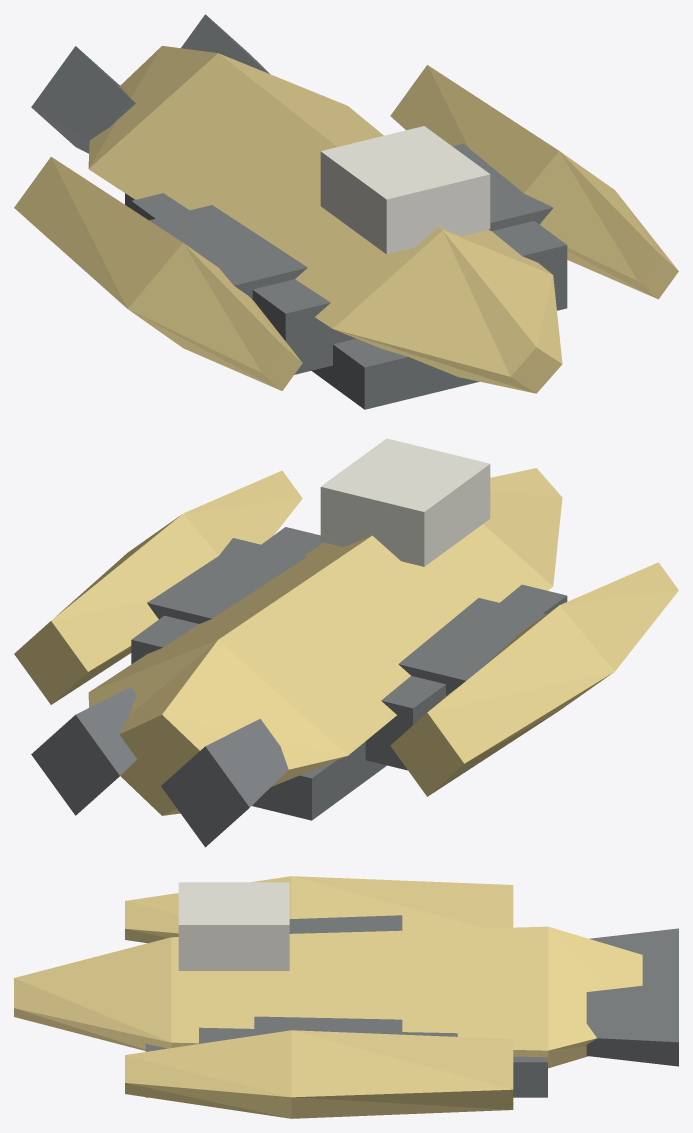
3 views of the same model, one above another, from view 1: azimuth 30°, elevation 25°; view 2: azimuth 150°, elevation 25°; view 3: azimuth 270°, elevation 25° (orthographic). The views are drawn at different scales.
Size of the model in its own units: 5.37 by 2.06 by 7.55.
